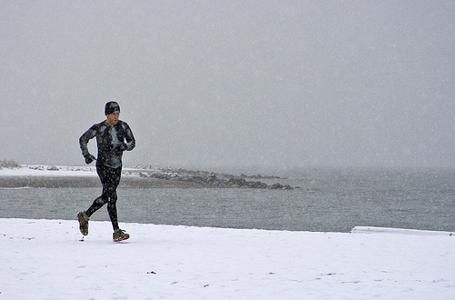person: (78, 101, 138, 245)
